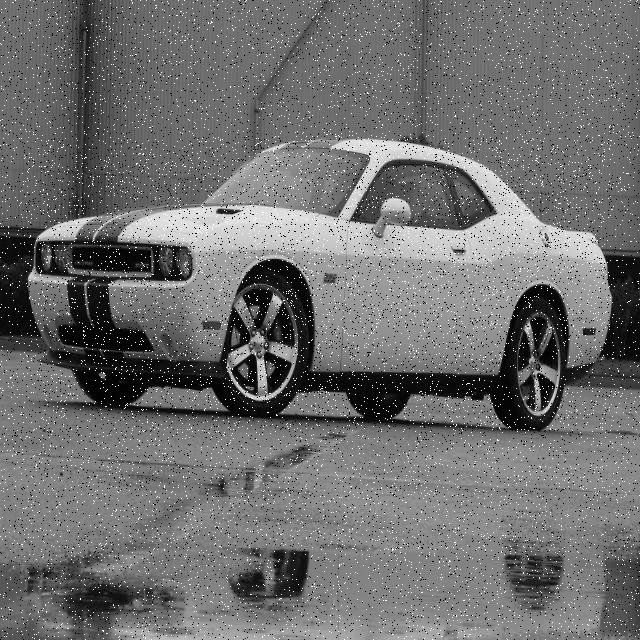Sedan: (26, 138, 614, 433)
